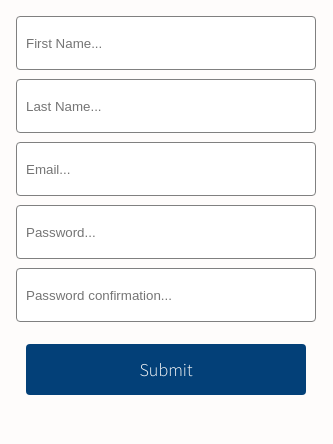
Test: RegisterForm tests › gives a note if password is too short
This screenshot has width=333, height=444.
Note: Simulate a user entering too short password
Type "Firstname" into the field with placeholder "First Name..." at {"x": 166, "y": 43}, box [16,16,316,70]
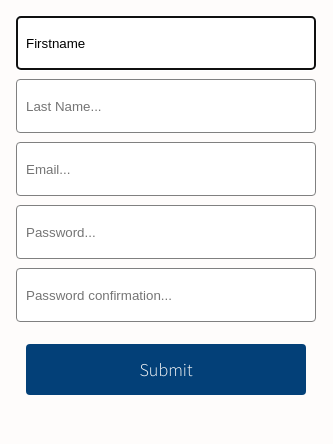
Type "Lastname" into the field with placeholder "Last Name..." at {"x": 166, "y": 106}, box [16,79,316,133]
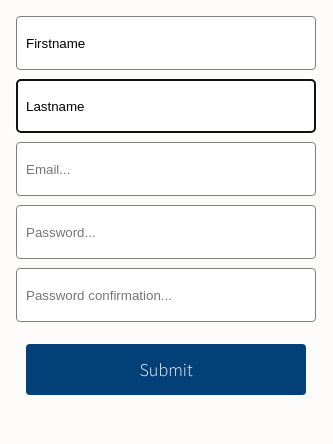
Type "name@example.fi" into the field with placeholder "Email..." at {"x": 166, "y": 169}, box [16,142,316,196]
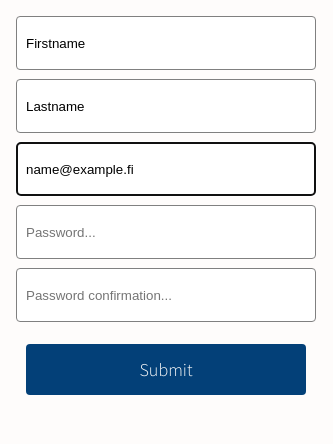
Type "pass" into the password field with placeholder "Password..." at {"x": 166, "y": 232}, box [16,205,316,259]
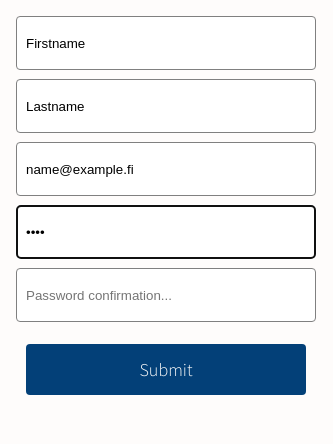
Type "pass" into the password field with placeholder "Password confirmation..." at {"x": 166, "y": 295}, box [16,268,316,322]
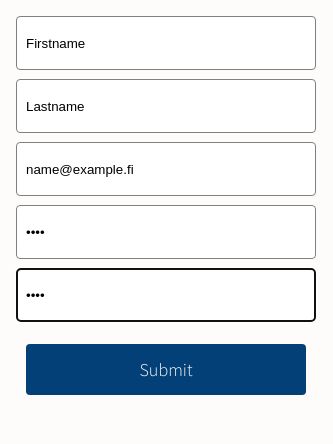
Click the button with test id "signup-submit" at {"x": 166, "y": 369}, box [26,344,306,395]
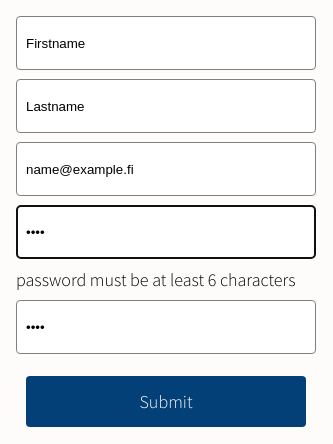
Result: the text with test id "password-info" is shown at [16,268,316,291]
